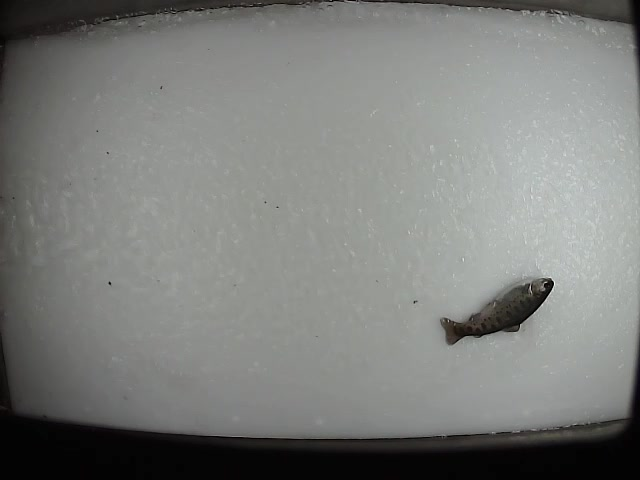fish: (438, 273, 557, 347)
